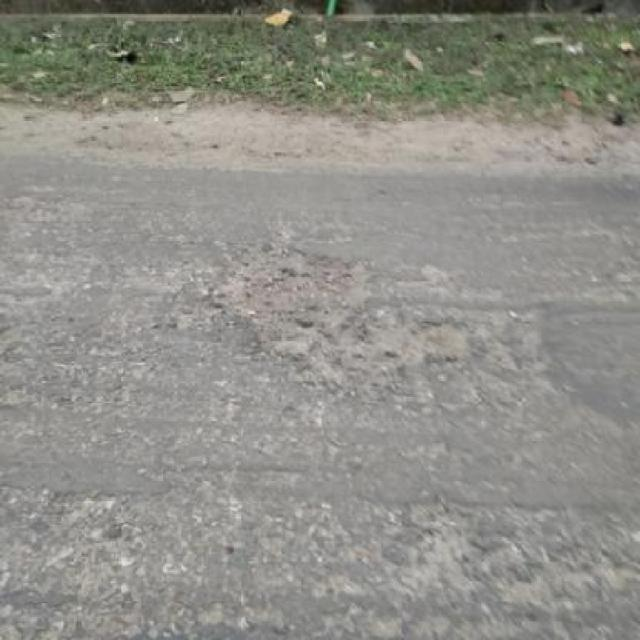Pothole: (208, 234, 474, 391)
